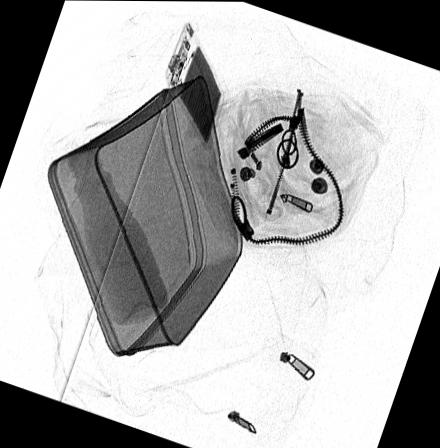Powerbank: (164, 17, 226, 150)
